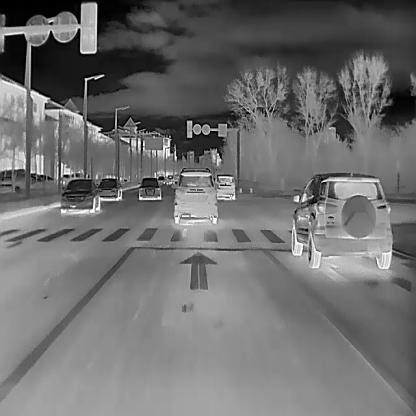car: (290, 172, 392, 268), (171, 166, 218, 223), (60, 178, 101, 212), (0, 168, 42, 187), (98, 176, 122, 201), (137, 176, 161, 199), (214, 173, 234, 200)
